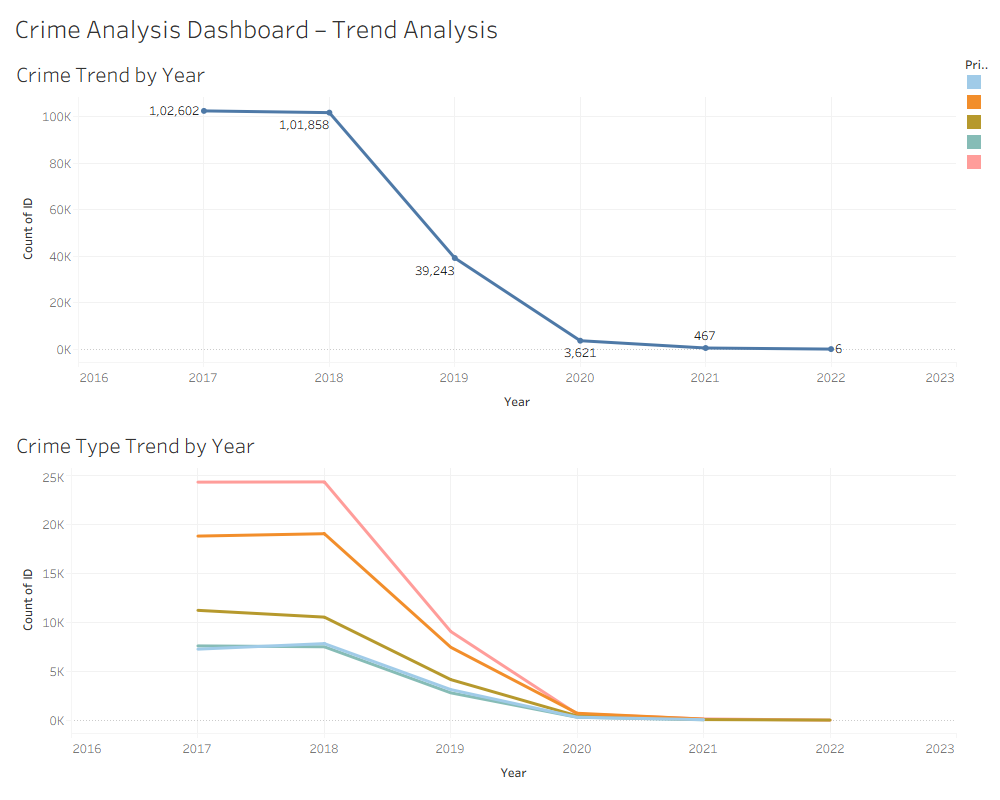

Layout of this report page (visuals, bound fields, positions):
{"tool":"tableau","page":{"name":"Crime Analysis Dashboard – Trend Analysis","canvas":[1000,800],"ordinal":1},"visuals":[{"type":"title","box":[8,8,984,42]},{"type":"worksheet","title":"Crime Trend by Year","mark":"Line","rows":["ID"],"cols":["Year"],"box":[8,50,952,371]},{"type":"legend","title":"Crime Type Trend by Year","param":"[federated.0sb4vrp04rdnd515fpecp0ylfsqa].[none:Primary Type:nk]","box":[960,50,32,126]},{"type":"worksheet","title":"Crime Type Trend by Year","mark":"Line","rows":["ID"],"cols":["Year"],"box":[8,421,952,371]}]}

Visuals, with their boxes in screenshot pixels (x1, y1, x2, y2), scaled from the page's 1000x800 canvas onto the 1000x800 screenshot:
title: box(8, 8, 992, 50)
"Crime Trend by Year" worksheet (Line marks): box(8, 50, 960, 421)
"Crime Type Trend by Year" legend: box(960, 50, 992, 176)
"Crime Type Trend by Year" worksheet (Line marks): box(8, 421, 960, 792)
